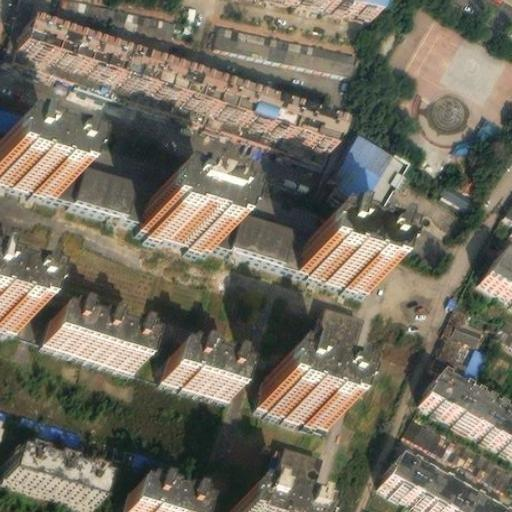building: (12, 18, 335, 148), (4, 130, 313, 262), (8, 44, 328, 159), (418, 372, 512, 451), (214, 18, 356, 70), (50, 302, 152, 367), (332, 126, 409, 211), (380, 458, 488, 512), (4, 447, 102, 503), (303, 226, 386, 286), (143, 188, 225, 246), (253, 365, 335, 421), (58, 0, 175, 39), (167, 342, 243, 396), (264, 441, 319, 512), (304, 304, 358, 372), (128, 472, 204, 512), (20, 410, 86, 444), (448, 293, 491, 344), (478, 253, 512, 301), (122, 439, 176, 468), (430, 336, 468, 374), (0, 283, 30, 324), (432, 178, 470, 210), (337, 240, 355, 248)
